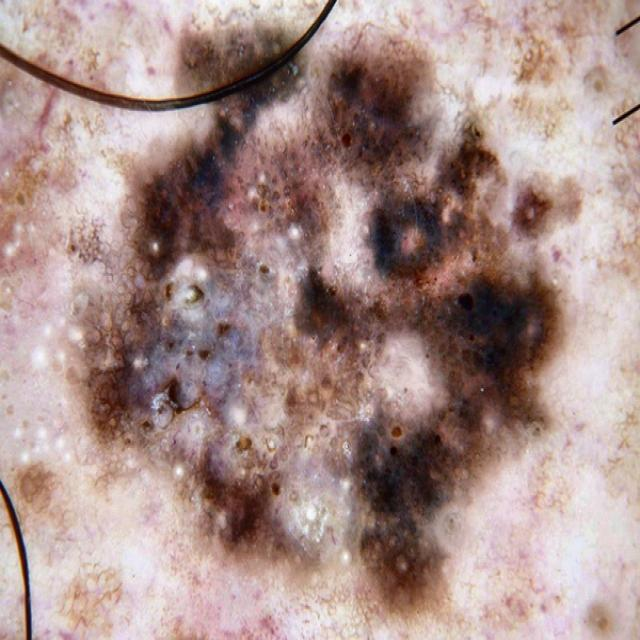Benign-Keratosis-like-Lesions-BKL-: (81, 25, 577, 613)
